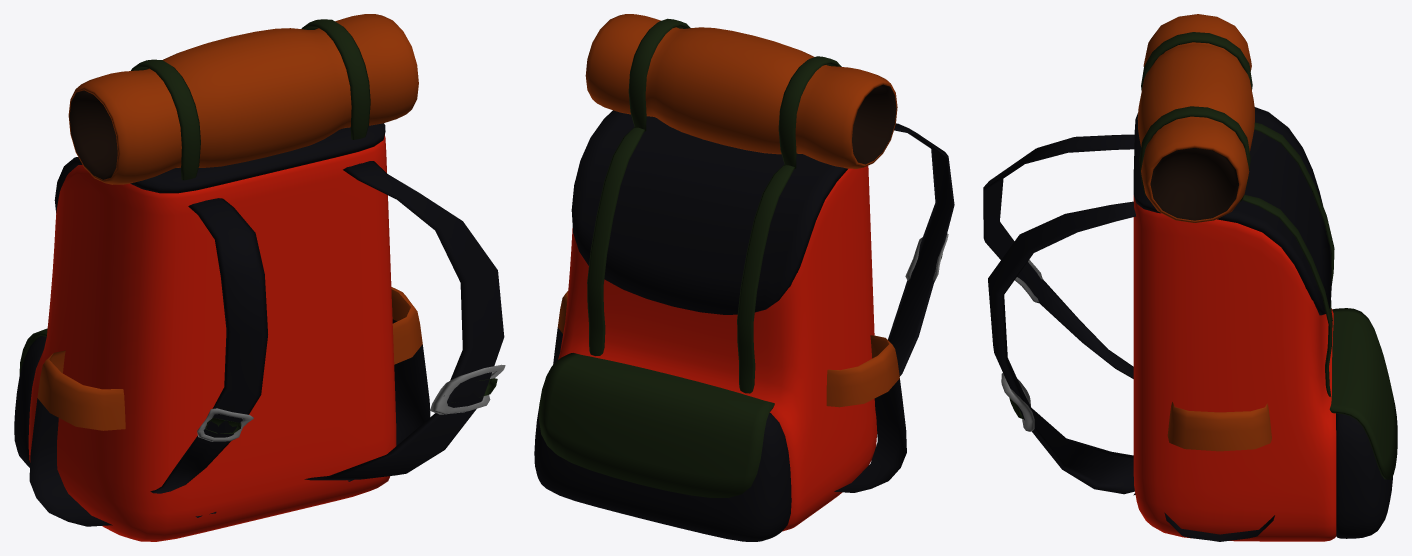
The model's file is PlayerBackpack.fbx.
The picture shows the model from 3 angles, left to right: view 1: azimuth 30°, elevation 25°; view 2: azimuth 150°, elevation 25°; view 3: azimuth 270°, elevation 25°; orthographic projection. The views are drawn at different scales.
Parts seen in each view (by area): view 1: bag, sleepingbag, Object002; view 2: bag, sleepingbag, Object002; view 3: bag, sleepingbag, Object002.
Boxes of the visible parts, x1,y1,x2,y2 form: bag: (14, 19, 430, 541); sleepingbag: (68, 14, 418, 184); Object002: (150, 161, 505, 493); bag: (534, 18, 906, 541); sleepingbag: (585, 14, 897, 168); Object002: (888, 123, 954, 376); bag: (1133, 32, 1397, 541); sleepingbag: (1137, 14, 1254, 222); Object002: (983, 134, 1135, 494).
Size of the model in its own units: 18.99 by 22.94 by 20.33.
